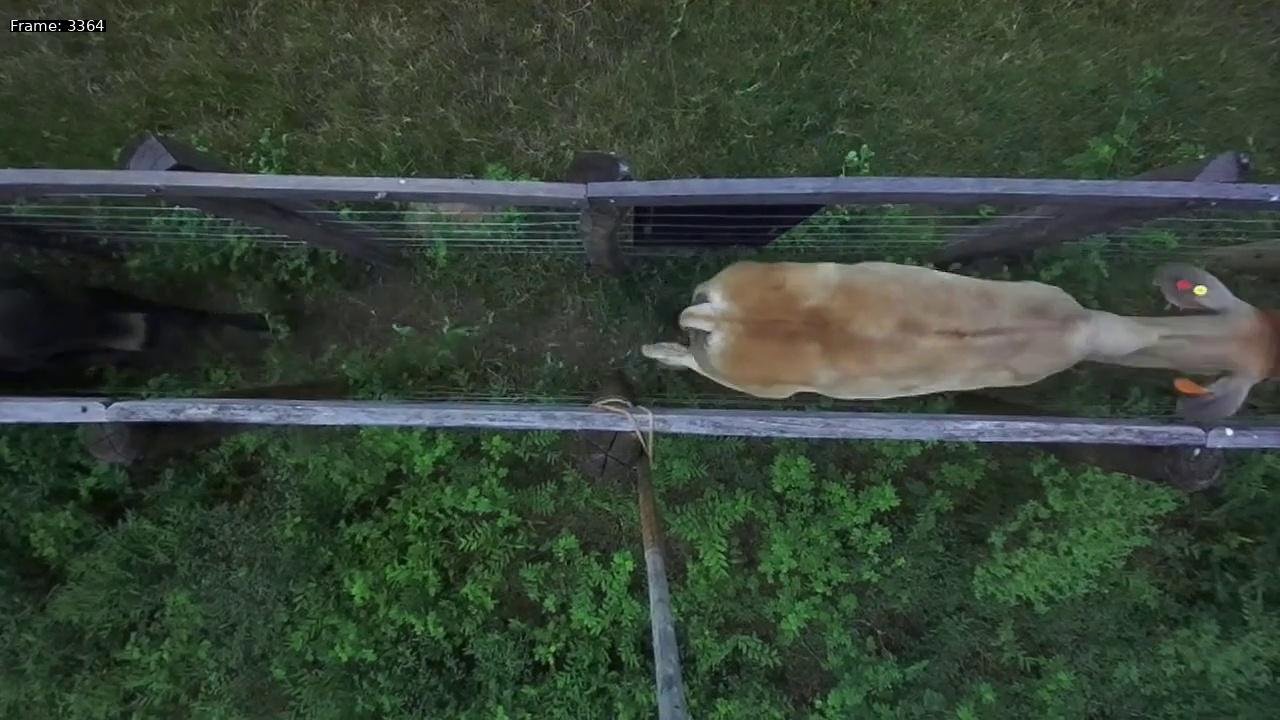cattle: (629, 215, 1280, 426)
